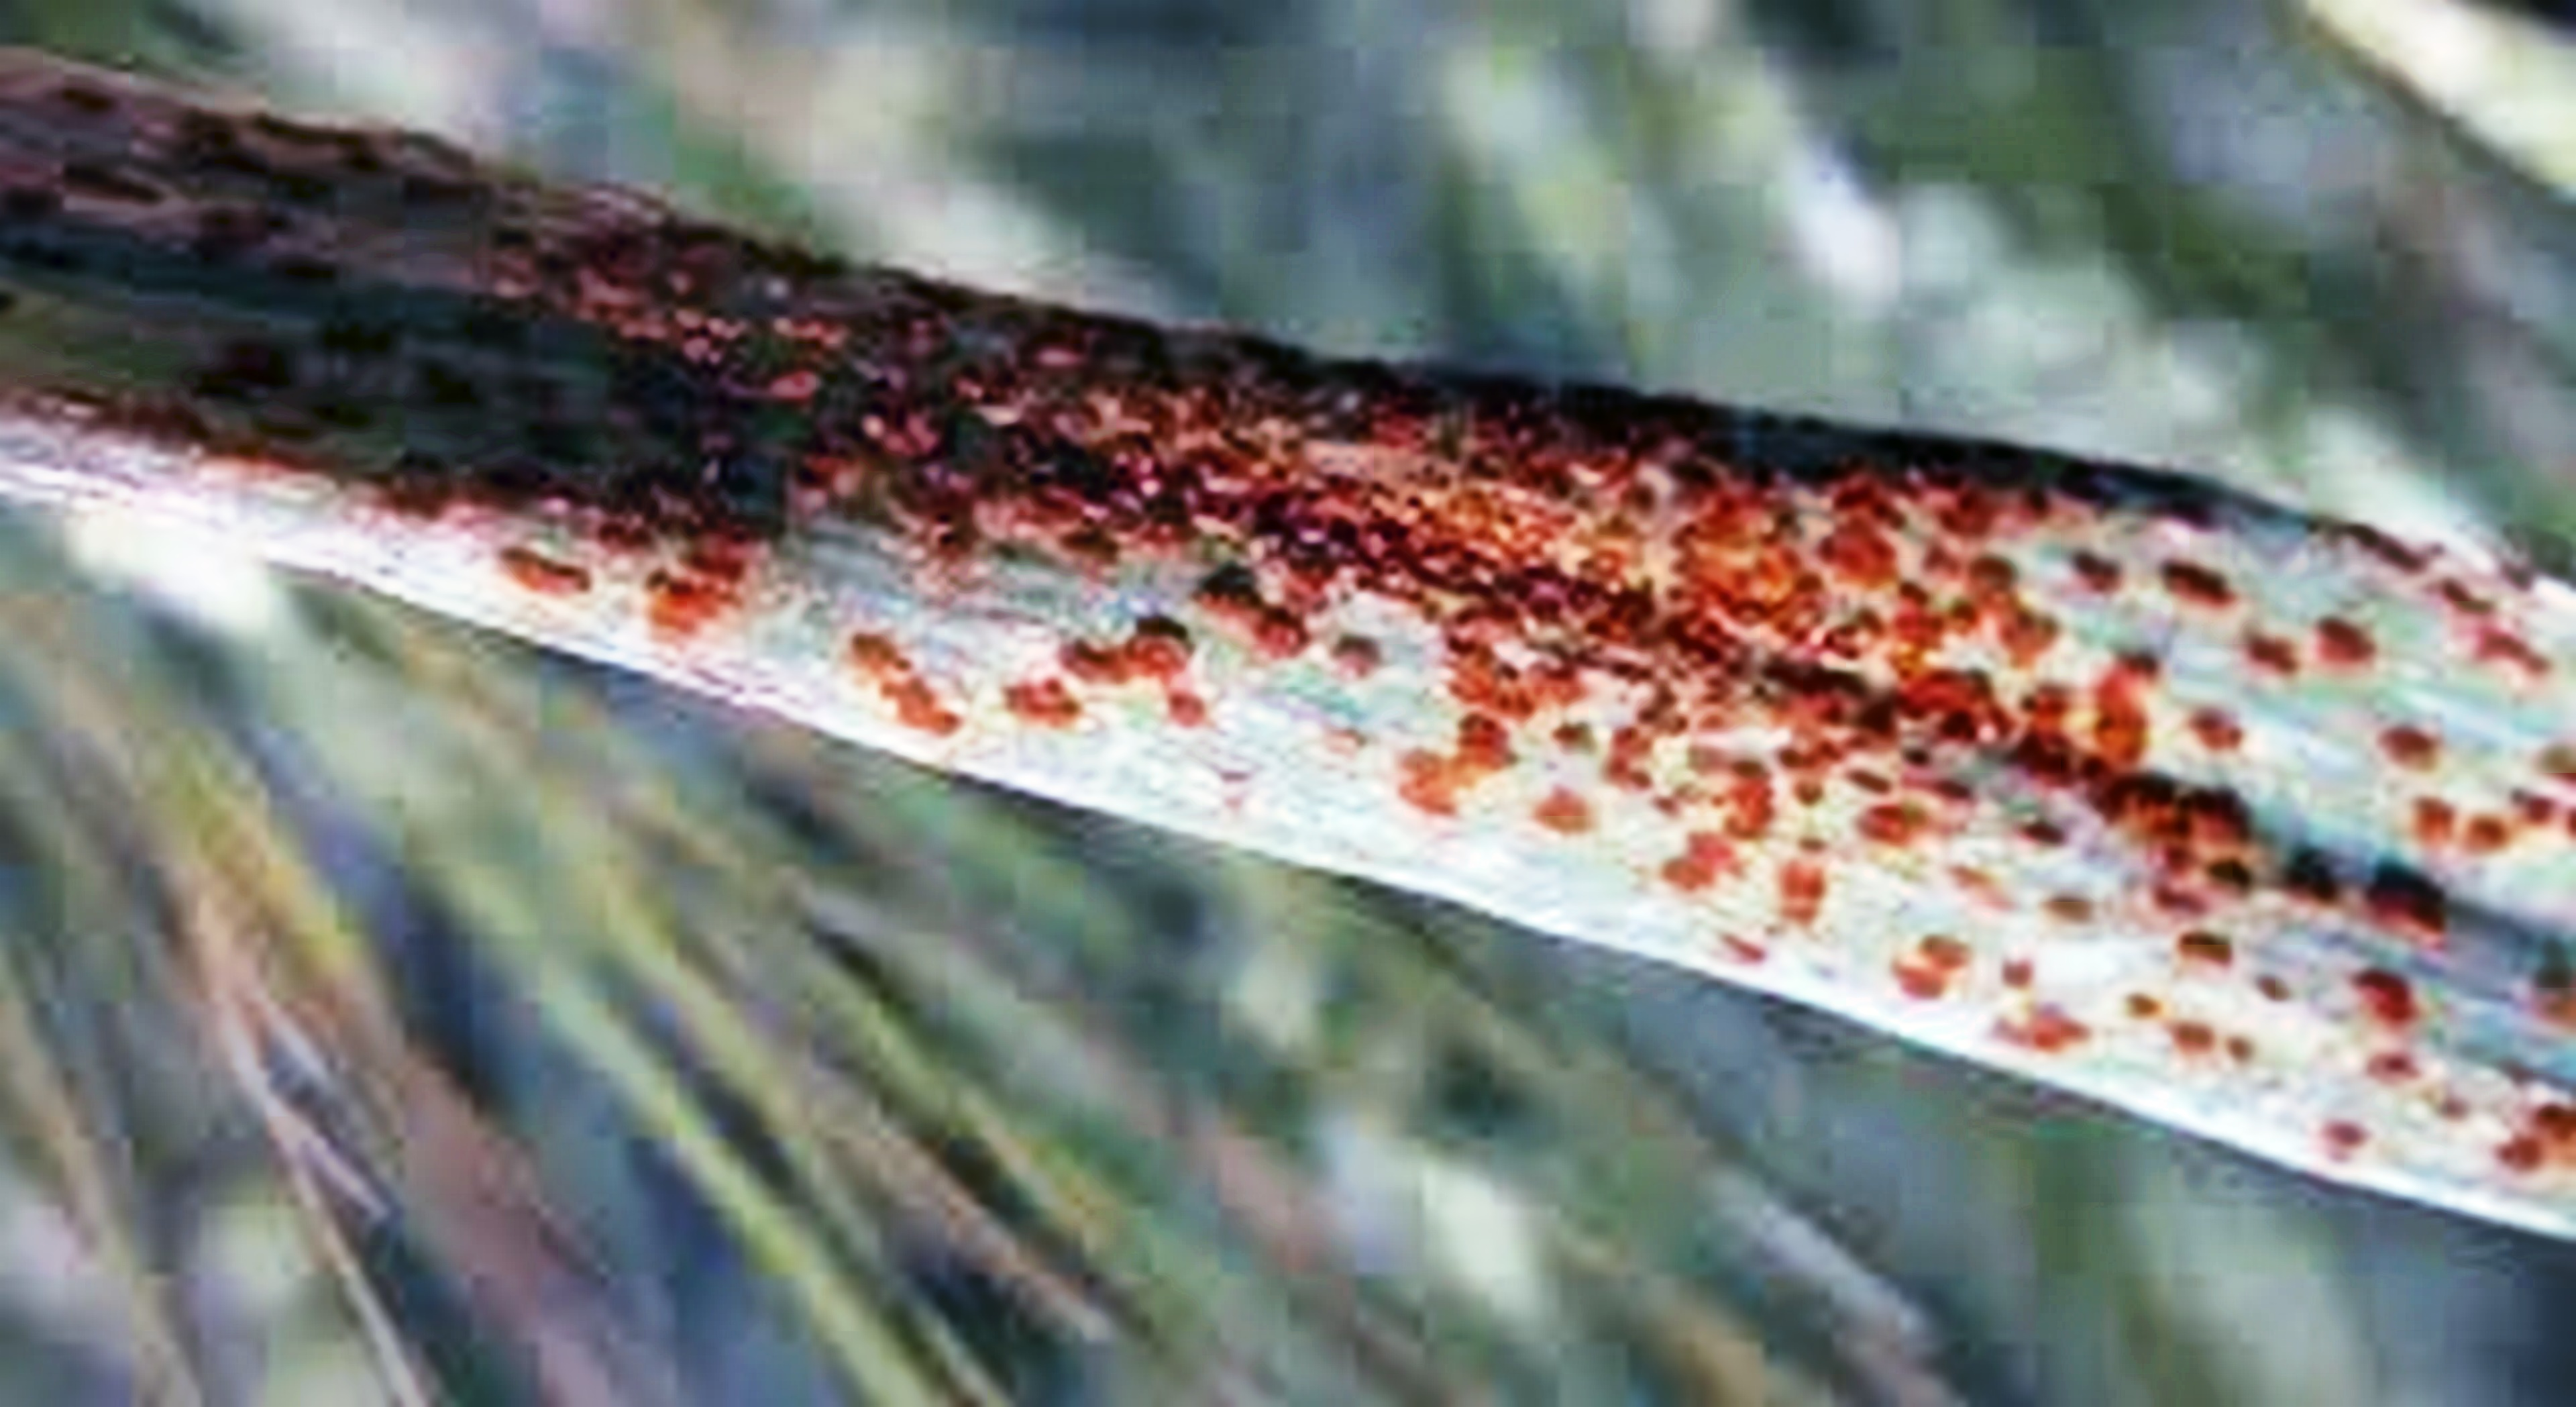Leaf Rust: (566, 250, 2212, 1112)
